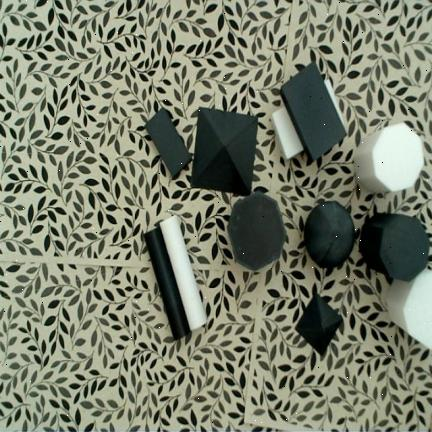Cilindro: (159, 214, 206, 331), (144, 227, 190, 340)
Esfera: (304, 201, 355, 268)
Paralelepipedo: (281, 61, 347, 161), (271, 80, 345, 160), (146, 108, 191, 176)
Piramide: (191, 108, 258, 196), (294, 293, 343, 356)
Prisma_hexagonal: (354, 122, 424, 192), (359, 213, 429, 281), (227, 193, 286, 270), (386, 270, 431, 348)
